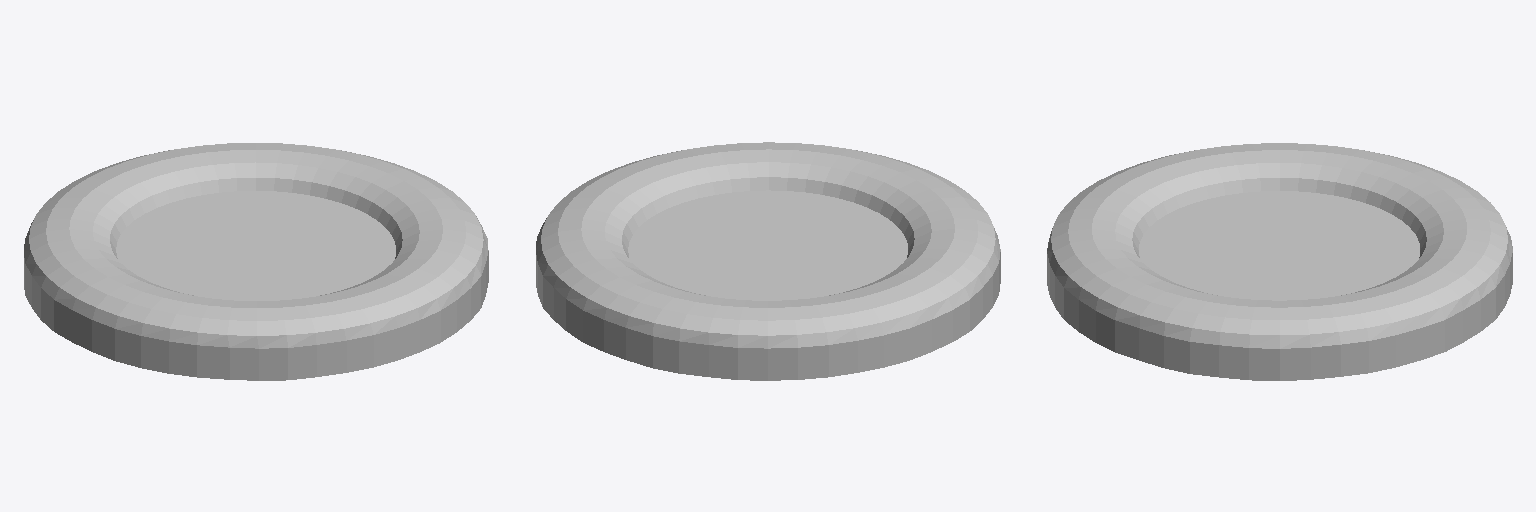
File: rondelle3.obj
The picture shows the model from 3 angles: view 1: azimuth 30°, elevation 25°; view 2: azimuth 150°, elevation 25°; view 3: azimuth 270°, elevation 25°; orthographic projection.
Visible parts, largest first — view 1: Torus; view 2: Torus; view 3: Torus.
Part boxes in pixels (x1,y1,x2,y2): Torus: (24, 143, 488, 380); Torus: (536, 142, 1000, 380); Torus: (1047, 143, 1512, 380).
Bounding box in the file's own units: 134 × 17.22 × 134.